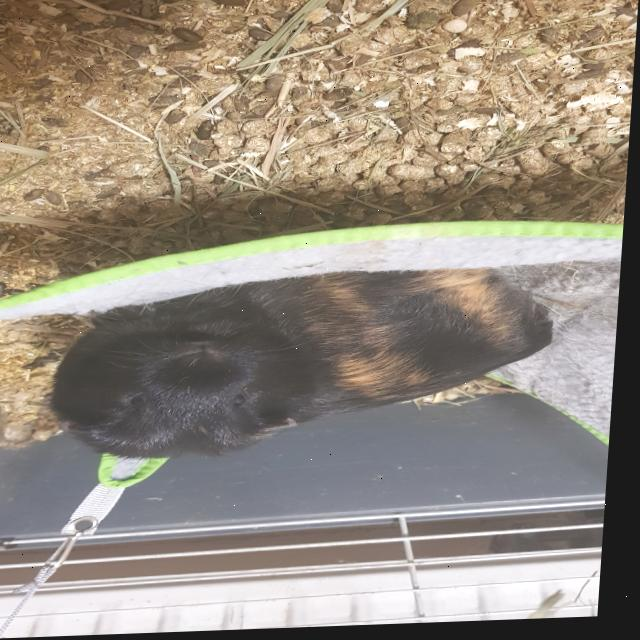guinea pig: (47, 262, 573, 465)
